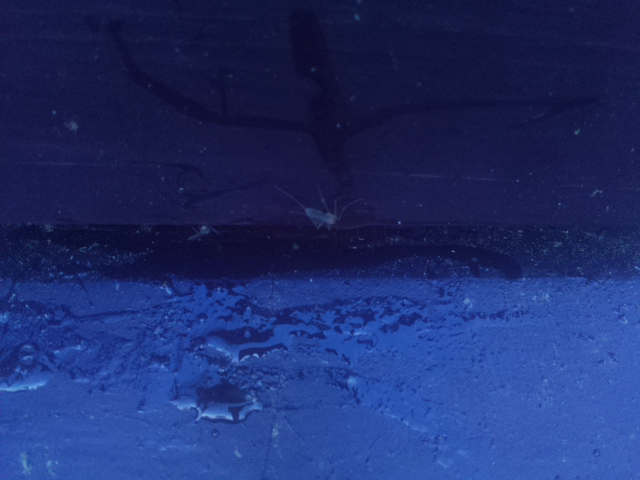ant: (0, 335, 40, 394)
